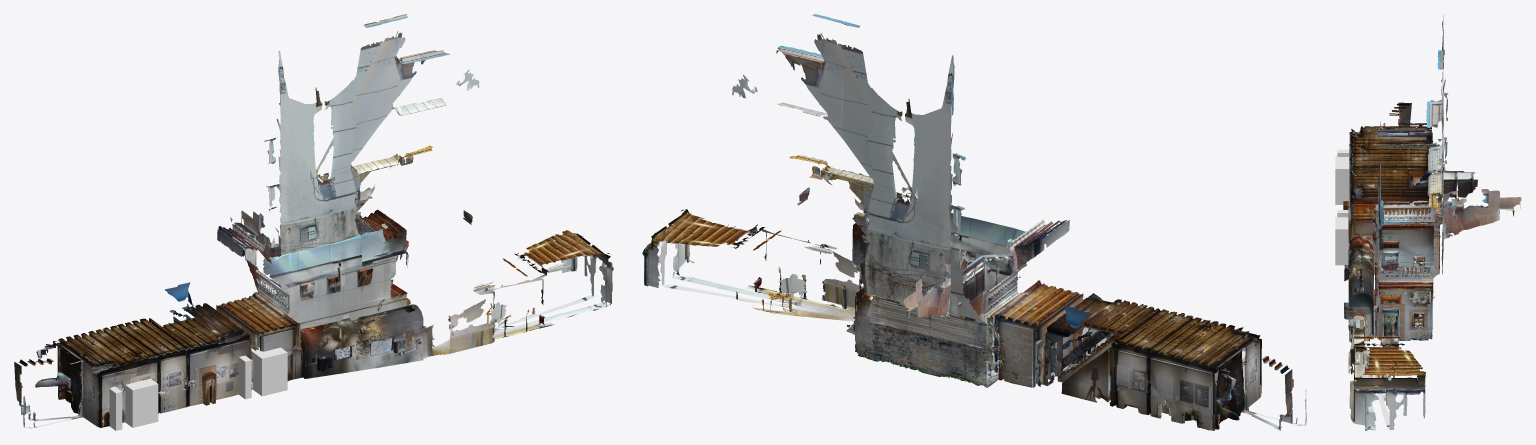
Rendered from act.glb.
3 views of the same model, side by side, from view 1: azimuth 30°, elevation 25°; view 2: azimuth 150°, elevation 25°; view 3: azimuth 270°, elevation 25° (orthographic). The views are drawn at different scales.
Visible parts, largest first — view 1: Default_1, Default_0, Default_2, Default_3, bound, geo; view 2: Default_1, Default_0, Default_2, Default_3; view 3: Default_2, Default_1, Default_3, Default_0, bound, geo.
Part boxes in pixels (x1=…): Default_1: x1=216, y1=50, x2=377, y2=381; Default_0: x1=14, y1=282, x2=252, y2=428; Default_2: x1=219, y1=14, x2=479, y2=378; Default_3: x1=353, y1=210, x2=613, y2=370; bound: x1=125, y1=347, x2=287, y2=427; geo: x1=109, y1=355, x2=251, y2=430; Default_1: x1=880, y1=55, x2=1090, y2=387; Default_0: x1=1043, y1=293, x2=1306, y2=430; Default_2: x1=732, y1=14, x2=1047, y2=382; Default_3: x1=642, y1=187, x2=864, y2=321; Default_2: x1=1347, y1=50, x2=1520, y2=347; Default_1: x1=1344, y1=14, x2=1521, y2=326; Default_3: x1=1344, y1=261, x2=1425, y2=430; Default_0: x1=1343, y1=102, x2=1432, y2=258; bound: x1=1335, y1=157, x2=1349, y2=265; geo: x1=1337, y1=149, x2=1349, y2=217.
Size of the model in its own units: 37.75 by 19 by 11.06.
5 materials, 4 textured.
